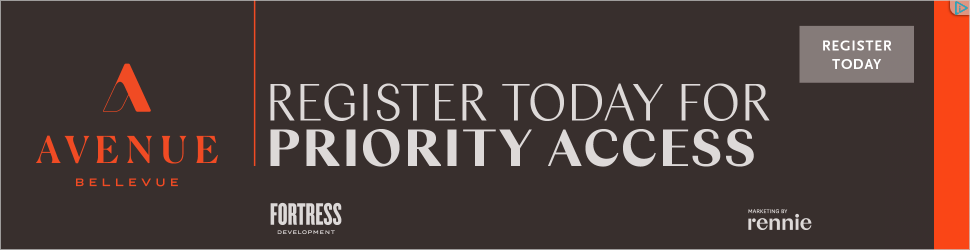fake_button: (793, 13, 922, 88)
